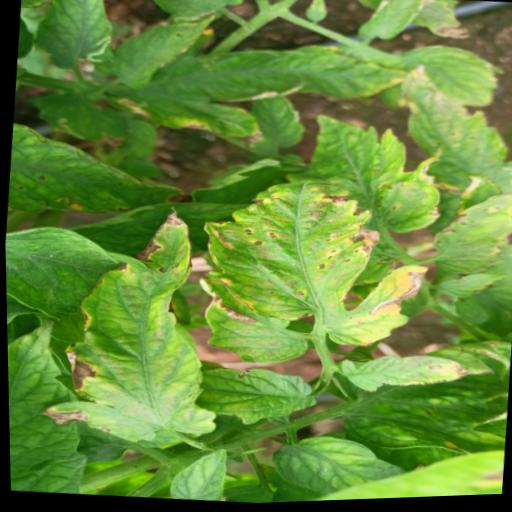Early Blight: (185, 170, 436, 383), (28, 195, 234, 454), (330, 347, 474, 404)
